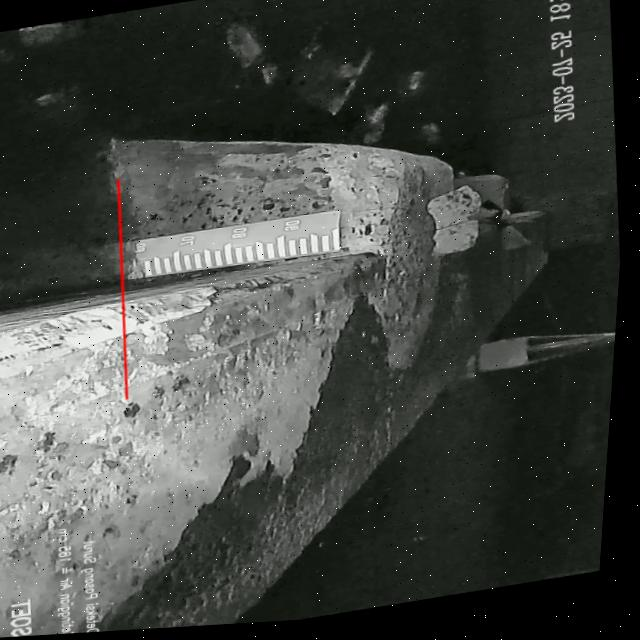water-meter: (103, 202, 355, 292)
